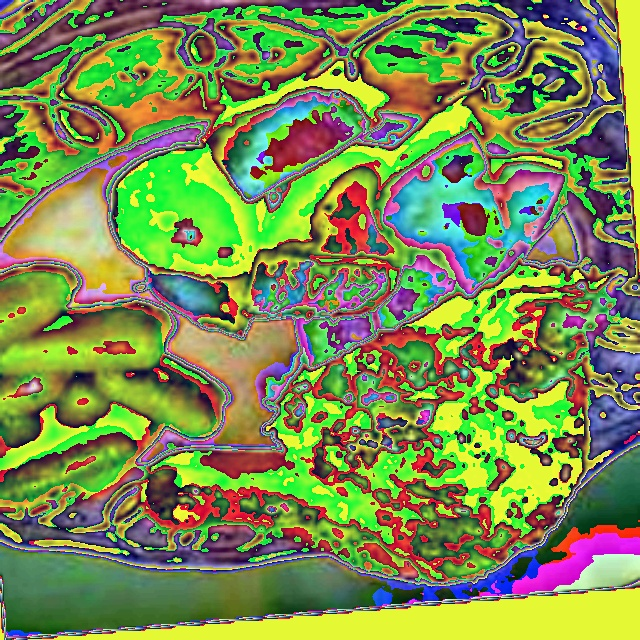background: (0, 78, 630, 592)
